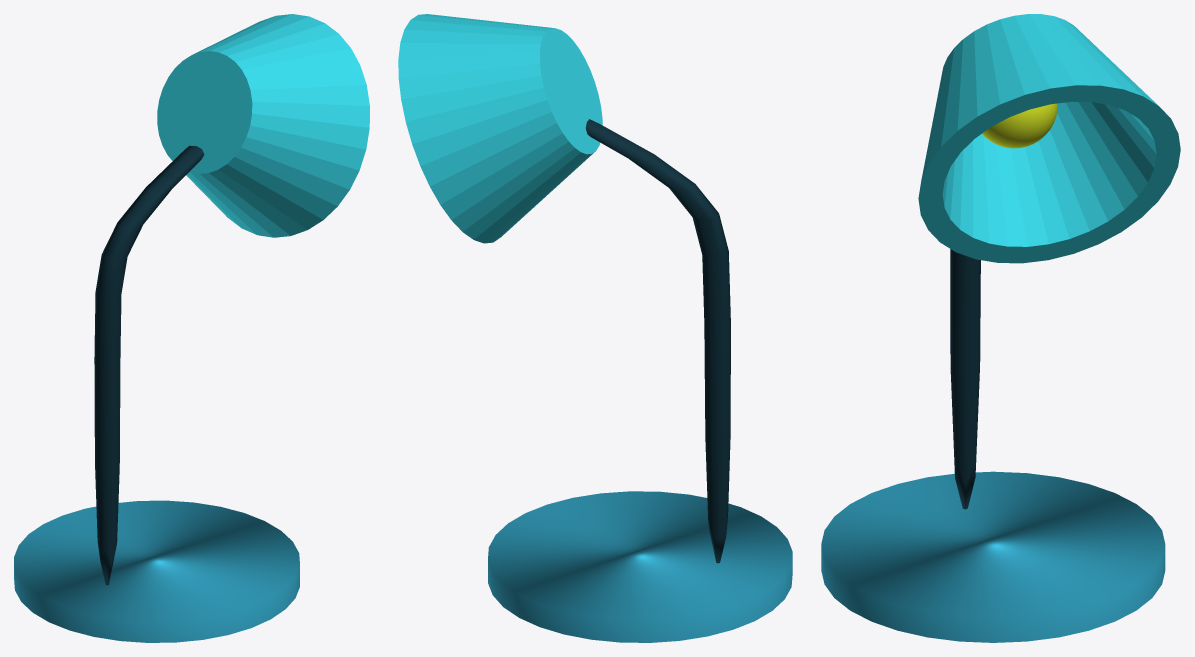
Rendered from lamp3.fbx.
3 renders of one model, left to right at view 1: azimuth 30°, elevation 25°; view 2: azimuth 150°, elevation 25°; view 3: azimuth 270°, elevation 25°, orthographic. The views are drawn at different scales.
Visible parts, largest first — view 1: Sphere, Cube.001, Cube.002; view 2: Cube.001, Sphere, Cube.002; view 3: Sphere, Cube.001, Cube.002.
Boxes of the visible parts, box(x1,y1,x2,y2) form: Sphere: box(157, 14, 369, 237); Cube.001: box(14, 500, 299, 642); Cube.002: box(94, 145, 204, 585); Cube.001: box(488, 491, 792, 642); Sphere: box(398, 14, 602, 243); Cube.002: box(585, 119, 730, 563); Sphere: box(918, 14, 1180, 263); Cube.001: box(821, 471, 1165, 642); Cube.002: box(950, 249, 980, 509).
Size of the model in its own units: 348 by 519 by 281.
